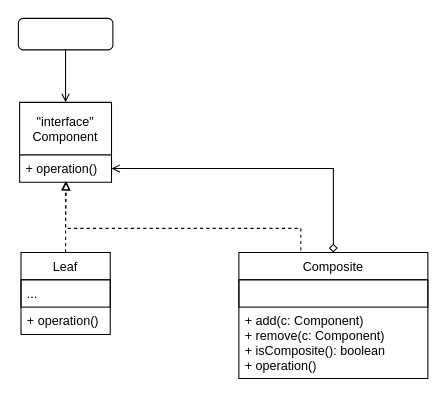
Image size: 446x400. Some labels were removed from this diagram. The centre of each missing label's shape, as x and y in pixels:
- children: Component[]: point 333,293
Client: point 65,33
